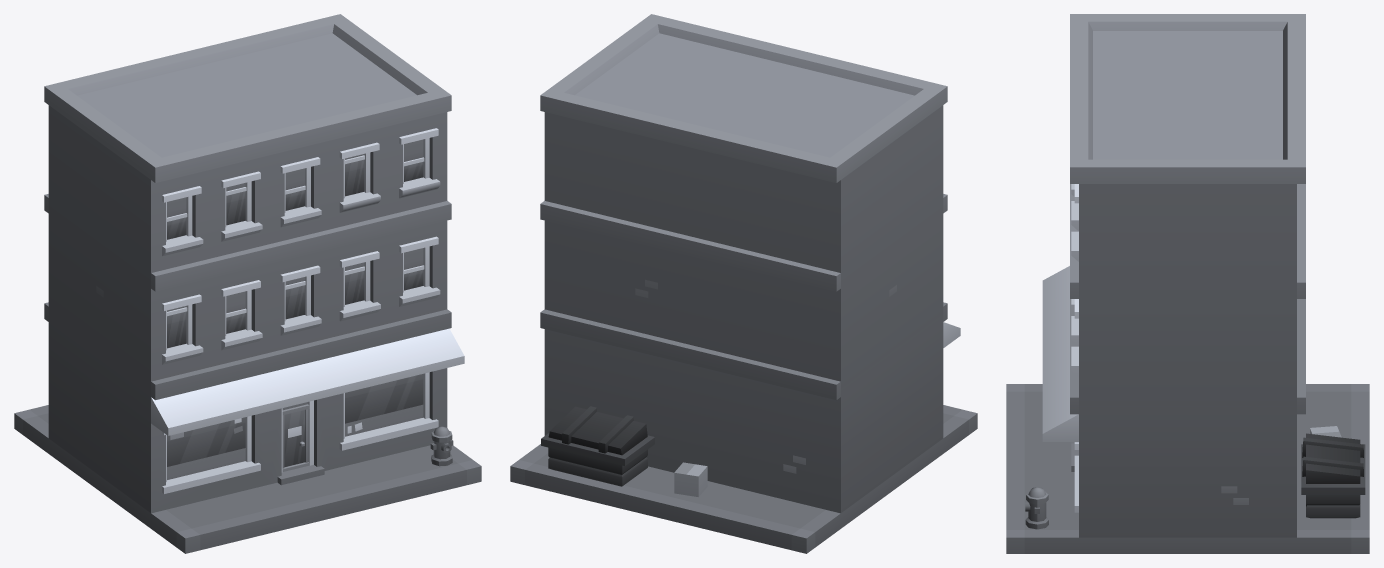
Rendered from tokyo-walkup-a.glb.
3 renders of one model, left to right at view 1: azimuth 30°, elevation 25°; view 2: azimuth 150°, elevation 25°; view 3: azimuth 270°, elevation 25°, orthographic. The views are drawn at different scales.
Visible parts, largest first — view 1: building_E; view 2: building_E; view 3: building_E.
Part boxes in pixels (<box>): building_E: <box>14,14,481,553</box>; building_E: <box>510,14,977,553</box>; building_E: <box>1006,14,1369,553</box>.
Bounding box in the file's own units: 2.01 × 2.35 × 2.
2 materials, 2 textured.
